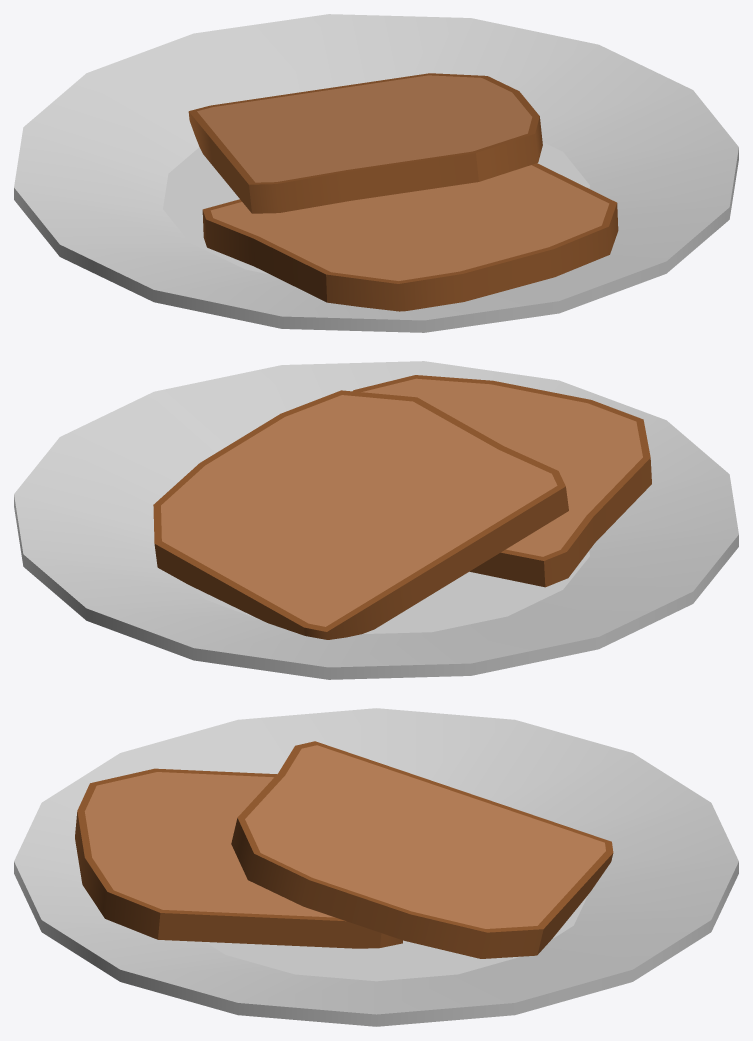
The model's file is plate.FBX.
3 views of the same model, one above another, from view 1: azimuth 30°, elevation 25°; view 2: azimuth 150°, elevation 25°; view 3: azimuth 270°, elevation 25° (orthographic).
Visible parts, largest first — view 1: Cylinder001, Box002, Box001; view 2: Cylinder001, Box001, Box002; view 3: Cylinder001, Box001, Box002.
Part boxes in pixels (x1=…): Cylinder001: x1=14, y1=14, x2=738, y2=332; Box002: x1=202, y1=163, x2=618, y2=311; Box001: x1=188, y1=73, x2=542, y2=213; Cylinder001: x1=14, y1=361, x2=738, y2=679; Box001: x1=153, y1=390, x2=568, y2=639; Box002: x1=353, y1=375, x2=651, y2=587; Cylinder001: x1=14, y1=708, x2=738, y2=1026; Box001: x1=231, y1=741, x2=613, y2=958; Box002: x1=75, y1=768, x2=402, y2=948.
Size of the model in its own units: 1.6 by 0.2441 by 1.6.
